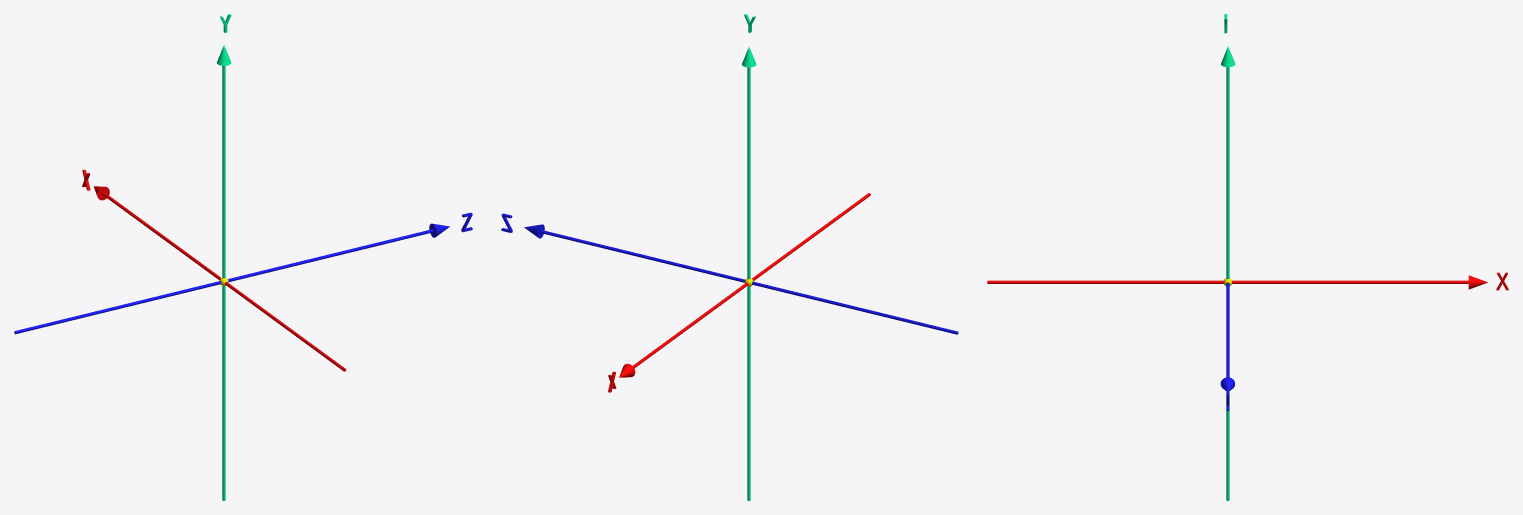
The model's file is XYZ.glb.
The picture shows the model from 3 angles, left to right: view 1: azimuth 30°, elevation 25°; view 2: azimuth 150°, elevation 25°; view 3: azimuth 270°, elevation 25°; orthographic projection.
Visible parts, largest first — view 1: Y, Z, X; view 2: Y, Z, X; view 3: X, Y, Z.
Boxes of the visible parts, left/top/right/bottom form: Y: left=217, top=14, right=231, bottom=500; Z: left=14, top=212, right=472, bottom=334; X: left=82, top=169, right=346, bottom=371; Y: left=742, top=14, right=756, bottom=500; Z: left=501, top=213, right=958, bottom=334; X: left=608, top=193, right=870, bottom=392; X: left=987, top=272, right=1508, bottom=290; Y: left=1221, top=14, right=1235, bottom=500; Z: left=1220, top=282, right=1234, bottom=410.
Bounding box in the file's own units: 24.28 × 24.63 × 24.06.
